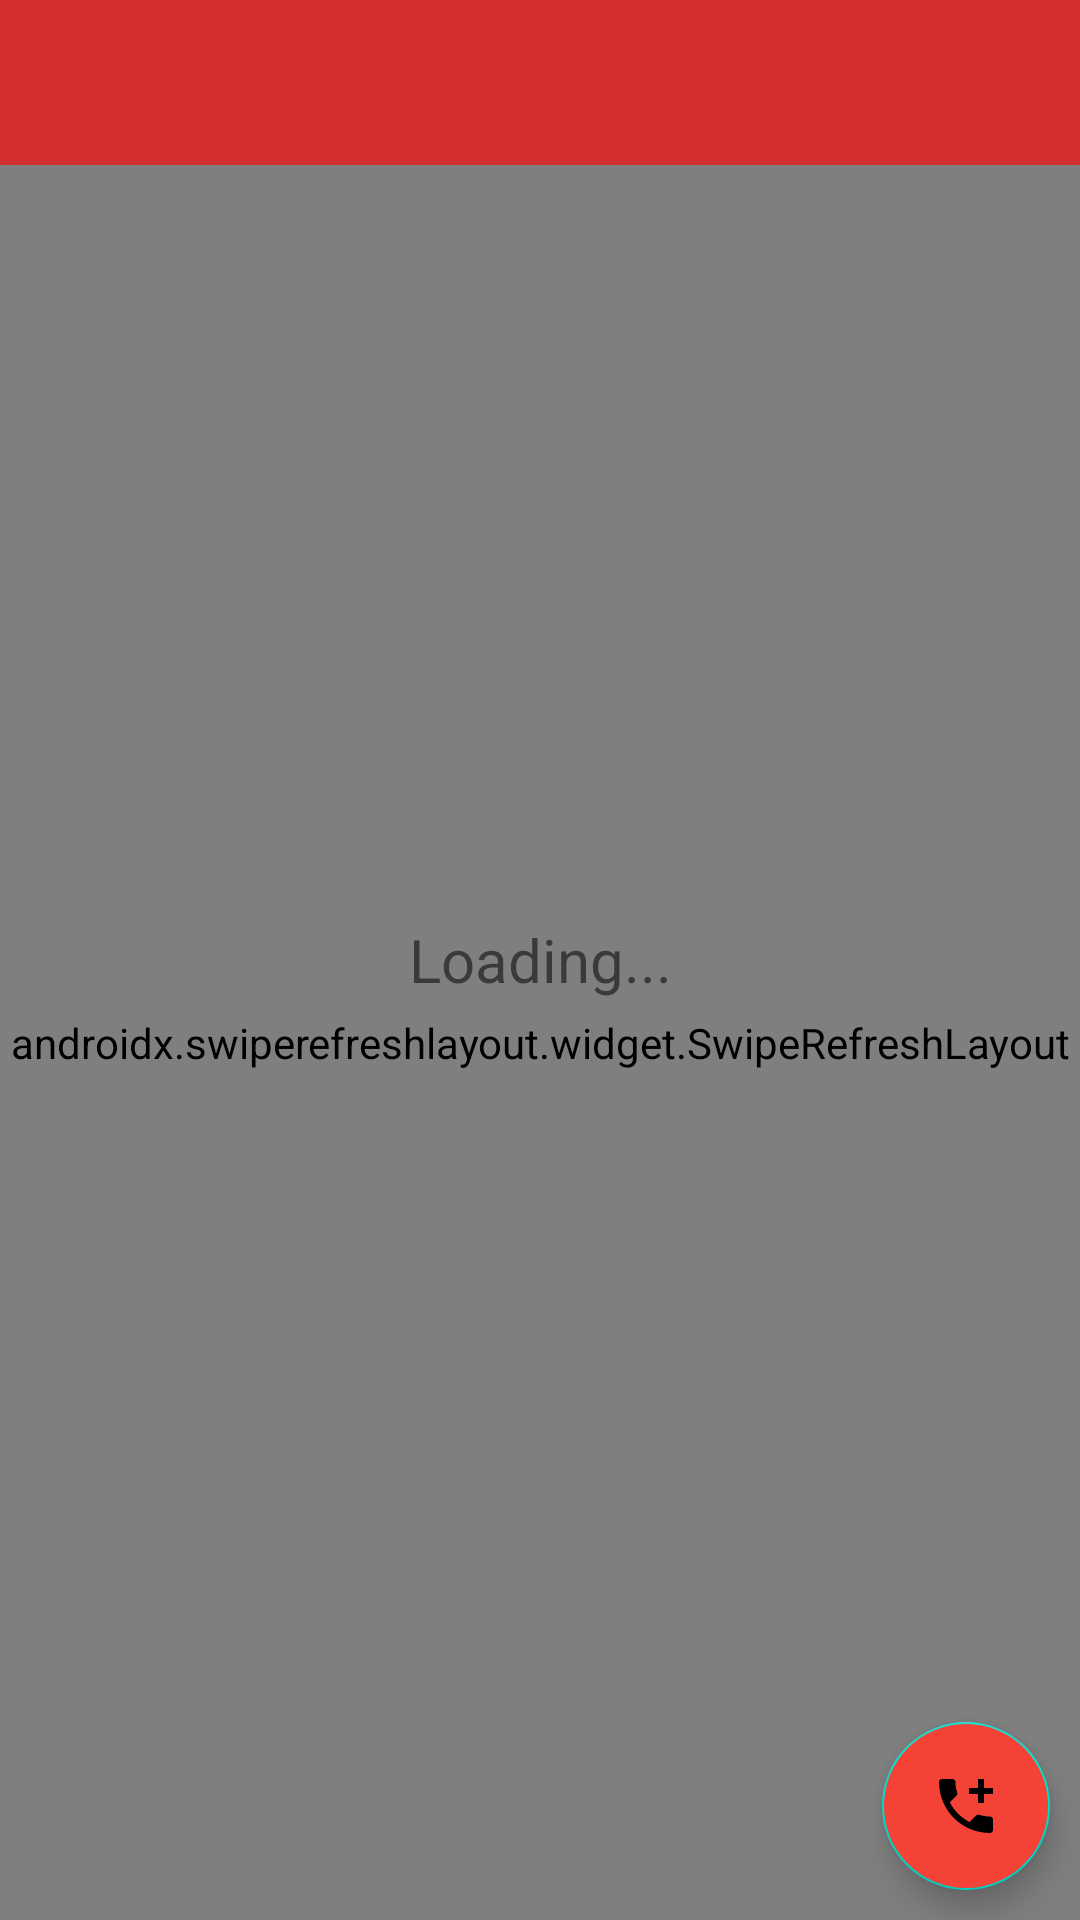

Screen size 1080px x 1920px. Icon name, then its box in pixels as [x1,y1,x2,y2]:
add call: [882,1722,1050,1890]
